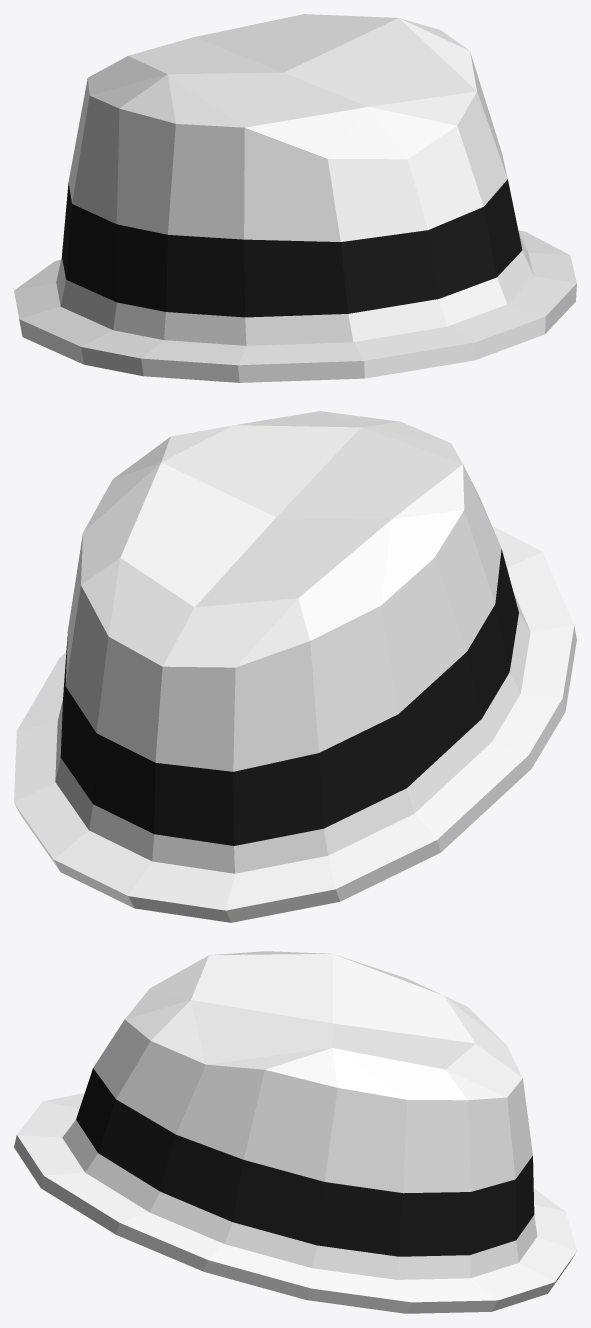
Rendered from TouristGuy_Hat.fbx.
The picture shows the model from 3 angles, top to bottom: view 1: azimuth 30°, elevation 25°; view 2: azimuth 150°, elevation 25°; view 3: azimuth 270°, elevation 25°; orthographic projection. The views are drawn at different scales.
Visible parts, largest first — view 1: TouristGuy_Hat; view 2: TouristGuy_Hat; view 3: TouristGuy_Hat.
Part boxes in pixels (x1,y1,x2,y2): TouristGuy_Hat: [14, 14, 576, 382]; TouristGuy_Hat: [14, 411, 576, 922]; TouristGuy_Hat: [14, 951, 576, 1313].
Bounding box in the file's own units: 26.68 × 17.57 × 34.1.
